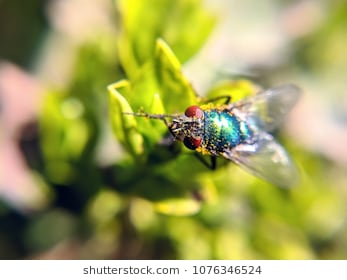green bottles flies: (115, 58, 309, 192)
